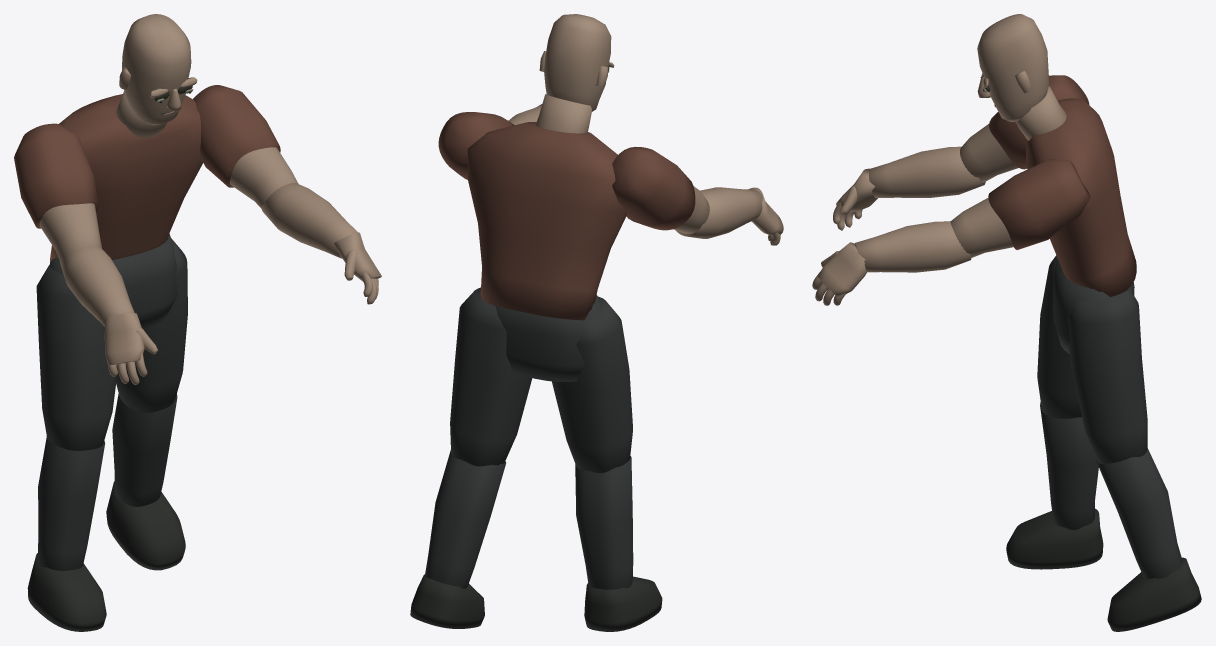
Rendered from enemy-rush.glb.
3 renders of one model, left to right at view 1: azimuth 30°, elevation 25°; view 2: azimuth 150°, elevation 25°; view 3: azimuth 270°, elevation 25°, orthographic. The views are drawn at different scales.
Parts seen in each view (by area): view 1: Chest, Trouser thigh_L, Trouser shin_L, Short sleeve_L, Anatomical head, Trouser shin_R, Short sleeve_R, Trouser thigh_R, Shoe_R, Shoe_L, Forearm anatomy_R, Waist (+6 smaller); view 2: Chest, Trouser thigh_R, Trouser thigh_L, Trouser shin_R, Trouser shin_L, Short sleeve_L, Waist, Anatomical head, Shoe_L, Shoe_R, Forearm anatomy_L, Short sleeve_R (+3 smaller); view 3: Chest, Trouser thigh_R, Trouser shin_R, Short sleeve_R, Anatomical head, Trouser shin_L, Forearm anatomy_R, Shoe_L, Forearm anatomy_L, Shoe_R, Trouser thigh_L, Upper arm_R (+6 smaller).
Boxes of the visible parts, x1,y1,x2,y2 form: Chest: (50, 94, 202, 262); Trouser thigh_L: (36, 265, 117, 450); Trouser shin_L: (37, 436, 105, 570); Short sleeve_L: (14, 123, 98, 228); Anatomical head: (122, 14, 191, 124); Trouser shin_R: (112, 394, 177, 506); Short sleeve_R: (193, 85, 280, 187); Trouser thigh_R: (116, 238, 187, 412); Shoe_R: (106, 481, 185, 570); Shoe_L: (27, 553, 106, 631); Forearm anatomy_R: (261, 183, 358, 258); Waist: (49, 234, 177, 328); Chest: (467, 122, 626, 320); Trouser thigh_R: (450, 287, 532, 466); Trouser thigh_L: (552, 296, 632, 473); Trouser shin_R: (425, 450, 506, 588); Trouser shin_L: (575, 456, 633, 589); Short sleeve_L: (612, 146, 695, 230); Waist: (480, 290, 601, 381); Anatomical head: (544, 14, 611, 111); Shoe_L: (584, 576, 662, 631); Shoe_R: (410, 574, 484, 628); Forearm anatomy_L: (675, 187, 762, 238); Short sleeve_R: (438, 112, 514, 179); Chest: (1026, 98, 1136, 297); Trouser thigh_R: (1067, 288, 1147, 463); Trouser shin_R: (1096, 448, 1182, 578); Short sleeve_R: (988, 159, 1090, 249); Anatomical head: (977, 14, 1049, 121); Trouser shin_L: (1040, 402, 1098, 530); Forearm anatomy_R: (855, 221, 971, 272); Shoe_L: (1006, 508, 1103, 569); Forearm anatomy_L: (869, 146, 985, 198); Shoe_R: (1107, 557, 1201, 631); Trouser thigh_L: (1037, 255, 1081, 418); Upper arm_R: (950, 197, 1013, 257).
Bounding box in the file's own units: 0.7477 × 1.64 × 1.
